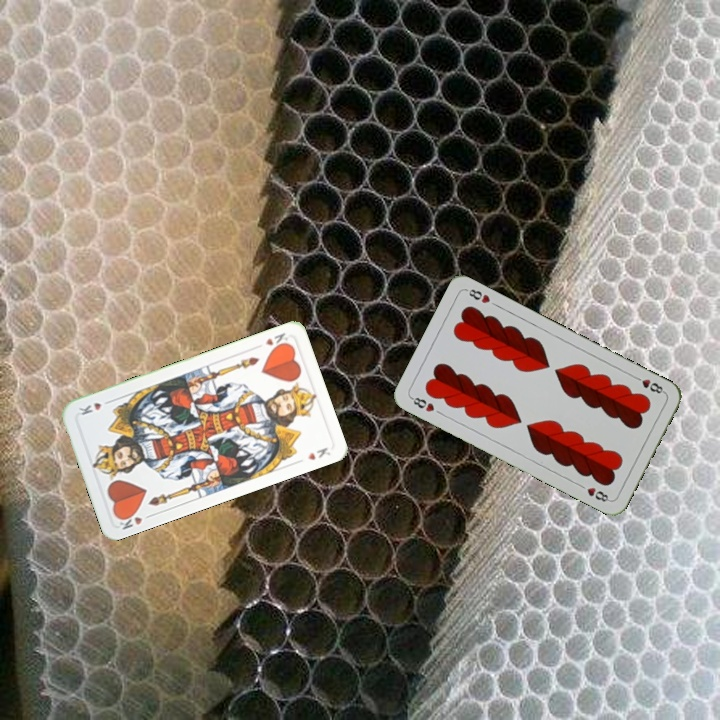H8: (630, 372, 668, 396), (407, 393, 437, 415)
HK: (114, 508, 145, 532), (261, 329, 291, 352)
